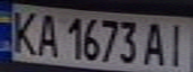1: (60, 14, 84, 61)
3: (118, 17, 142, 65)
6: (78, 15, 103, 62)
7: (96, 16, 121, 63)
A: (139, 18, 172, 66), (33, 10, 60, 57)
I: (160, 19, 193, 69)
K: (6, 7, 42, 56)
